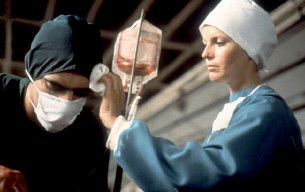face_mask: (30, 71, 88, 132), (202, 23, 241, 81)
